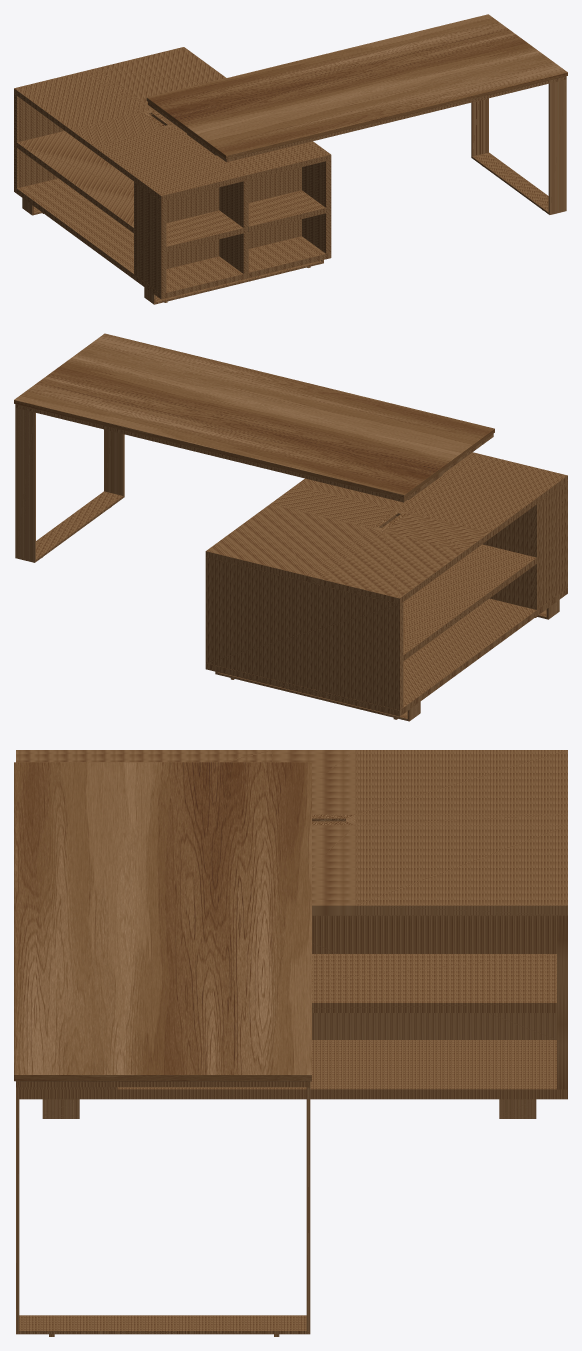
The model's file is desk.obj.
The picture shows the model from 3 angles, top to bottom: view 1: azimuth 30°, elevation 25°; view 2: azimuth 150°, elevation 25°; view 3: azimuth 270°, elevation 25°; orthographic projection. The views are drawn at different scales.
Parts seen in each view (by area): view 1: Box004, Box011, Box010, Box020, Box005, Box016, Box014, Box019, Box013, Box015, Box018, Box017 (+2 smaller); view 2: Box004, Box011, Box019, Box010, Box020, Box005, Box014, Box016, Box032, Box031; view 3: Box004, Box011, Box010, Box022, Box021, Box005, Box019, Box009, Box031.
Boxes of the visible parts, bbox=[...] form: Box004: bbox=[146, 14, 567, 158]; Box011: bbox=[14, 47, 331, 201]; Box010: bbox=[14, 178, 331, 299]; Box020: bbox=[17, 131, 133, 232]; Box005: bbox=[471, 76, 566, 214]; Box016: bbox=[166, 167, 301, 268]; Box014: bbox=[134, 182, 166, 293]; Box019: bbox=[14, 94, 64, 188]; Box013: bbox=[151, 115, 248, 273]; Box015: bbox=[302, 160, 331, 253]; Box018: bbox=[248, 190, 325, 231]; Box017: bbox=[166, 210, 243, 251]; Box004: bbox=[14, 333, 494, 498]; Box011: bbox=[205, 452, 567, 604]; Box019: bbox=[205, 557, 403, 710]; Box010: bbox=[205, 587, 567, 716]; Box020: bbox=[403, 544, 536, 661]; Box005: bbox=[15, 404, 124, 562]; Box014: bbox=[531, 482, 567, 609]; Box016: bbox=[482, 509, 530, 608]; Box032: bbox=[35, 409, 384, 497]; Box031: bbox=[215, 671, 420, 721]; Box004: bbox=[14, 762, 311, 1081]; Box011: bbox=[16, 750, 567, 915]; Box010: bbox=[19, 1040, 567, 1099]; Box022: bbox=[312, 915, 556, 1039]; Box021: bbox=[312, 954, 556, 1012]; Box005: bbox=[16, 1081, 310, 1334]; Box019: bbox=[557, 915, 567, 1089]; Box009: bbox=[42, 1099, 79, 1118]; Box031: bbox=[499, 1099, 536, 1118].
Size of the model in its own units: 2389 by 795 by 1505.
1 material, 1 textured.
